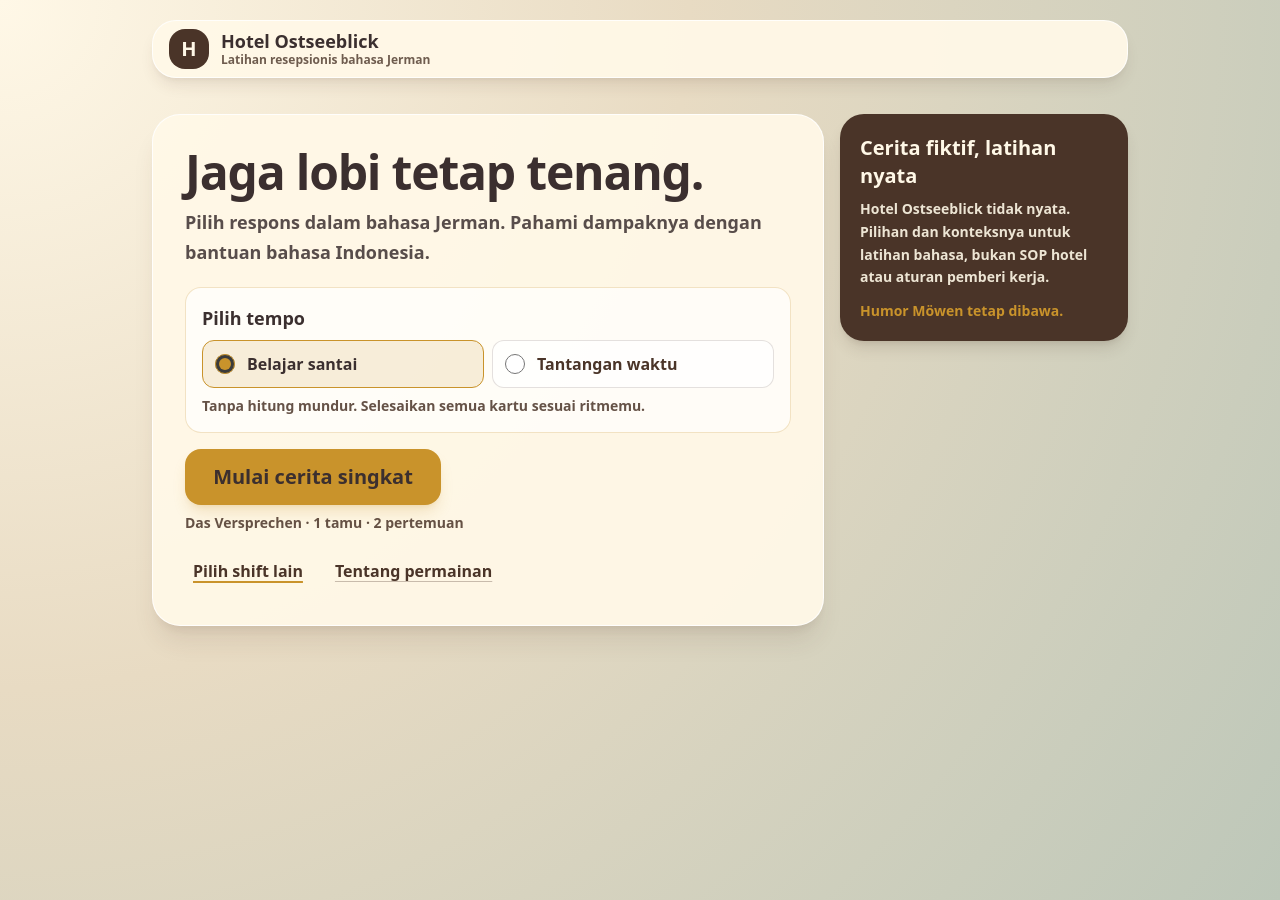
Test: App › shows final feedback before report in Janji kepada tamu
Click the button "Mulai cerita singkat": point(313, 477) [185,449,441,505]
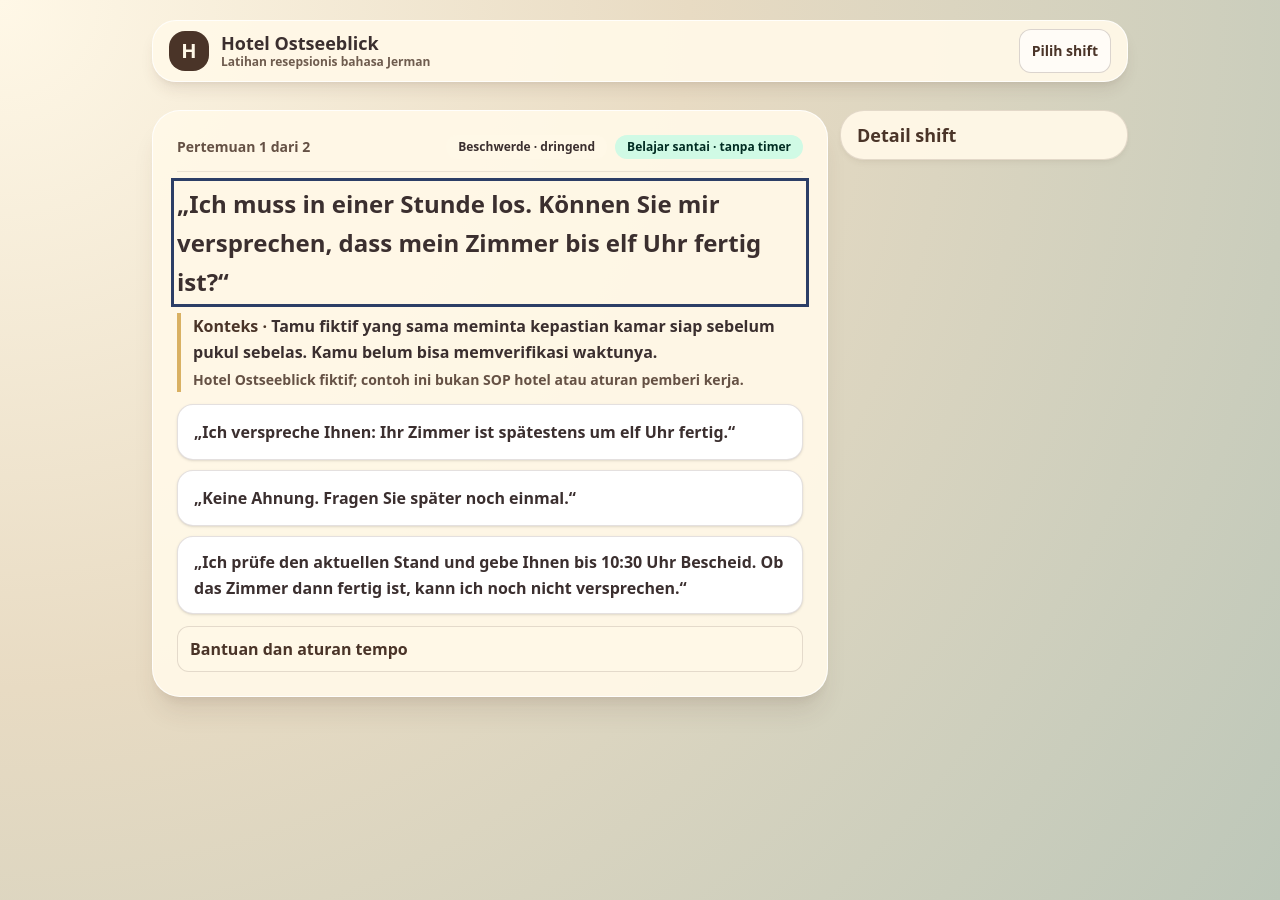
Click the 4th button: point(490, 575) [177,536,803,614]
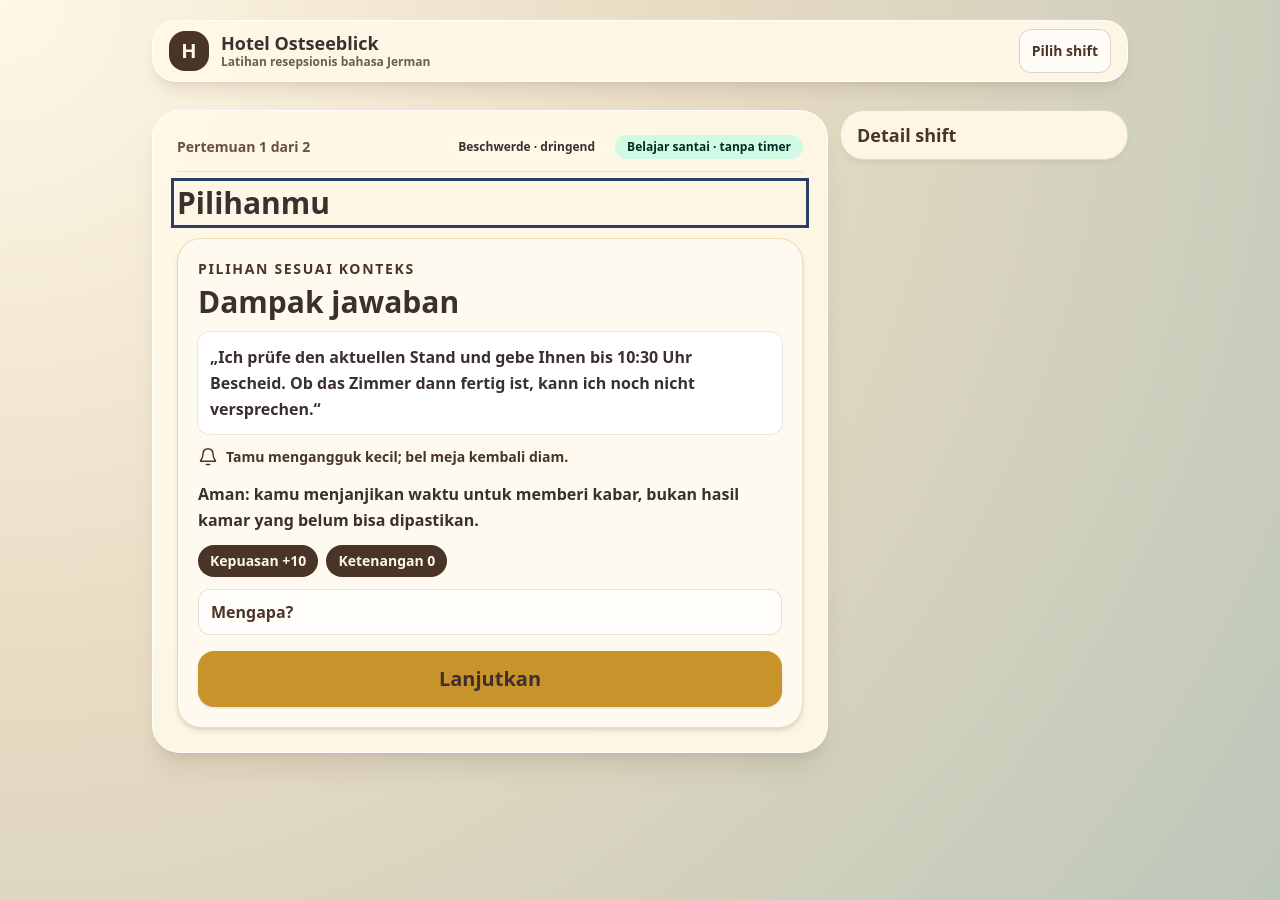
Now the heading "Pilihanmu" is shown, box [177,182,330,223]
Click the button "Lanjutkan": point(490, 679) [198,651,782,707]
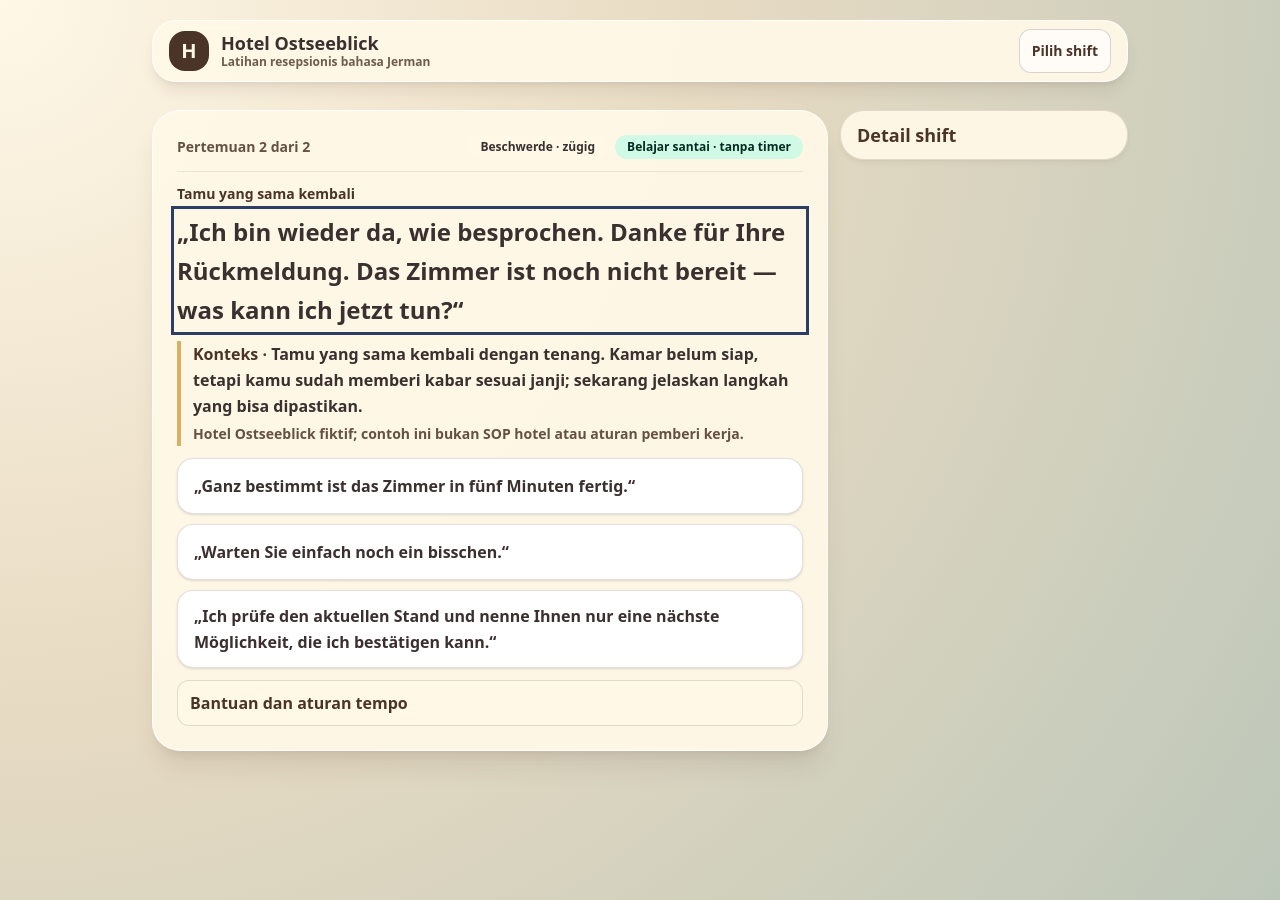
Click the 4th button: point(490, 629) [177,590,803,668]
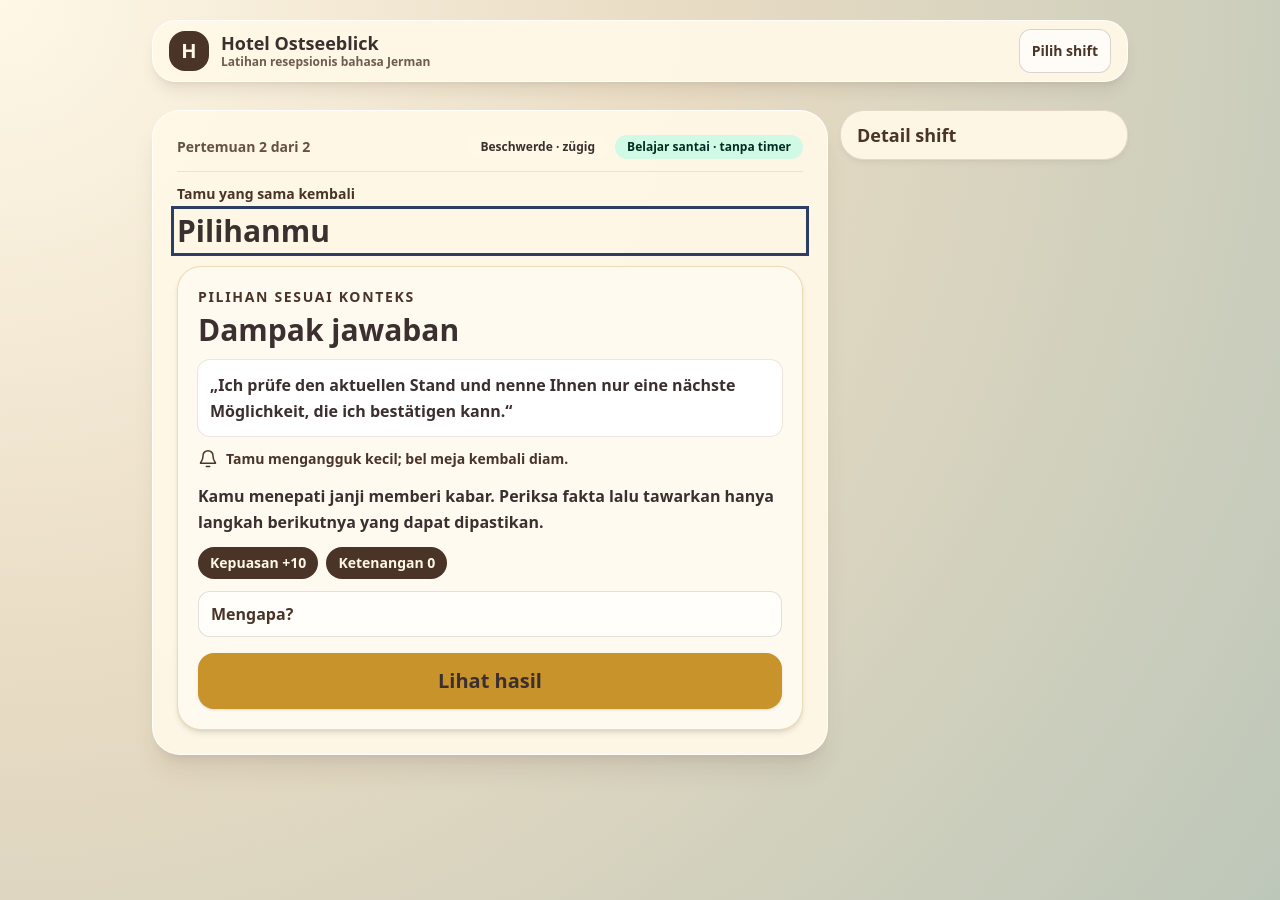
Expected: the heading "pelajaran dibawa pulang" is not shown
Now the heading "Pilihanmu" is shown, box [177,210,330,251]
Now the button "Lihat hasil" is shown
Click the button "Lihat hasil": point(490, 681) [198,653,782,709]
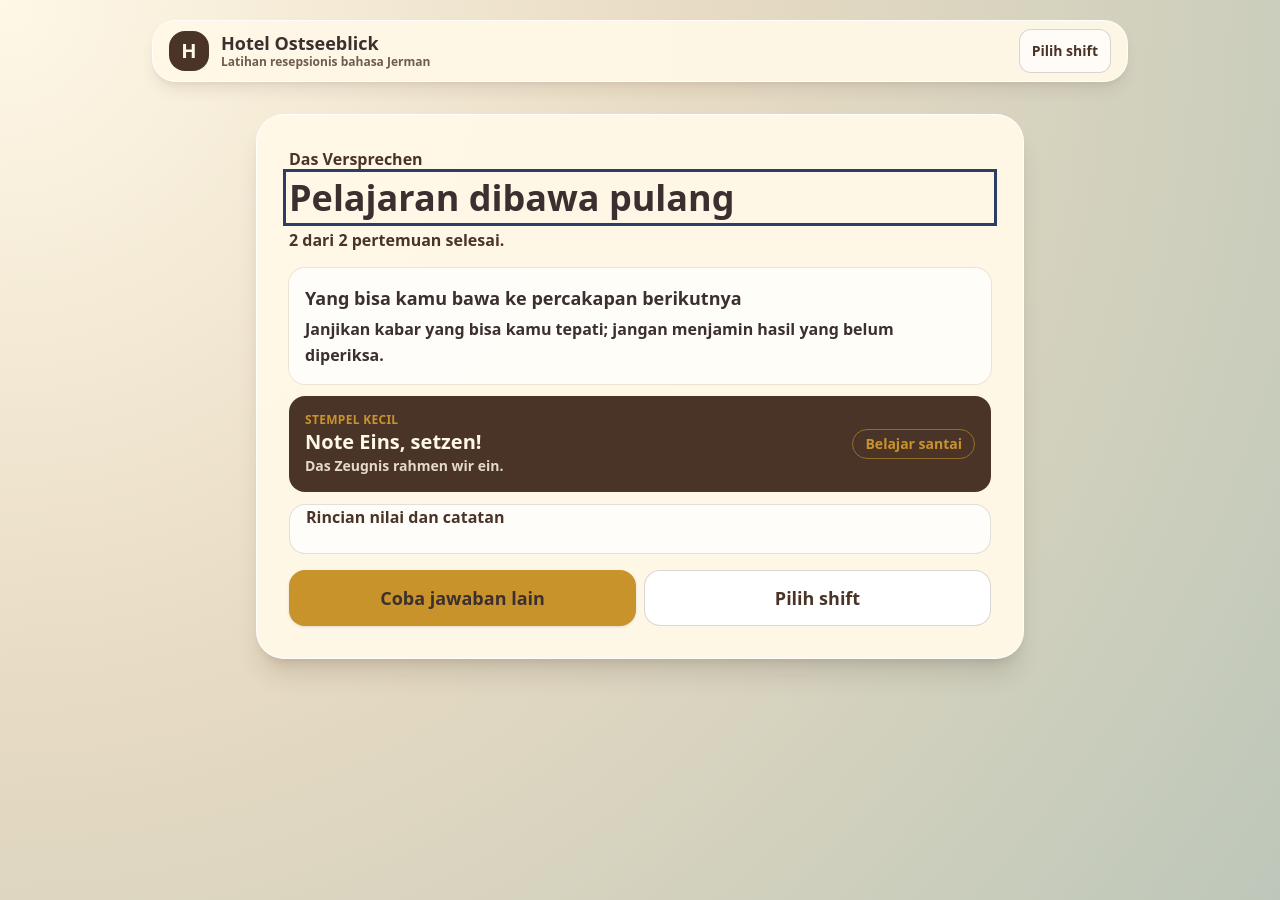
Now the button "Pilih shift" in the row of "Latihan resepsionis bahasa Jerman" is shown, box [1019,29,1111,73]
Now the heading "Pelajaran dibawa pulang" is shown, box [289,173,734,222]
Now the button "Coba jawaban lain" is shown, box [289,570,636,626]
